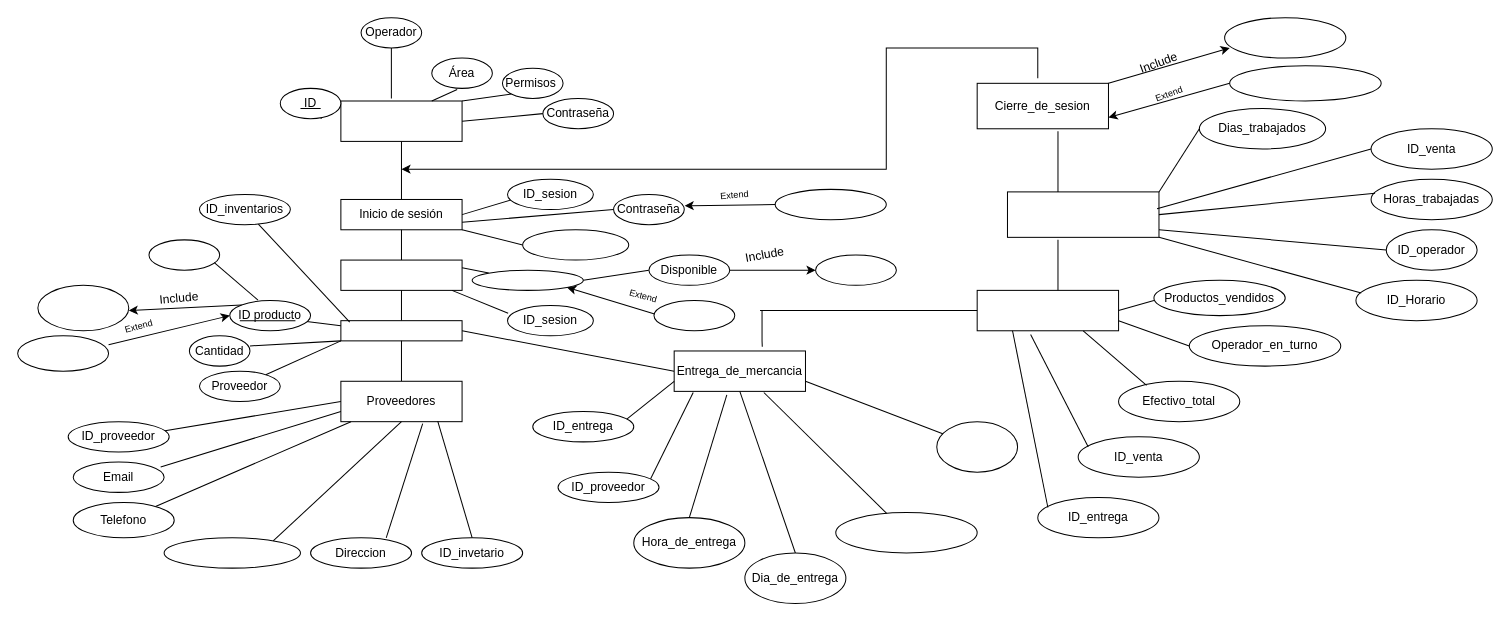
This 1510x621 diagram has some shape labels left out. Each missing label, with the box of its shape:
Agotado: (17, 335, 109, 371)
Aprobo_sus_horas: (1224, 17, 1346, 58)
Contol de inventario: (340, 320, 462, 341)
control_de_ventas _diarias: (976, 289, 1119, 331)
Disponible_en _inventario: (37, 284, 129, 331)
Horarios_de_operadores: (1006, 191, 1159, 237)
ID_del_operador: (522, 229, 629, 260)
ID_del_producto: (471, 269, 583, 290)
ID_inventario: (936, 421, 1018, 472)
No disponible: (653, 299, 735, 331)
No_aprobo_sus_horas: (1229, 65, 1381, 101)
Nombre_proveedor: (163, 537, 300, 568)
Precio: (148, 239, 220, 270)
Productos_recibidos: (835, 512, 977, 553)
Realiza venta: (815, 254, 896, 285)
Registro del operador: (340, 100, 462, 141)
reintento de contraseña: (774, 188, 886, 220)
Venta al cliente: (340, 259, 462, 290)
